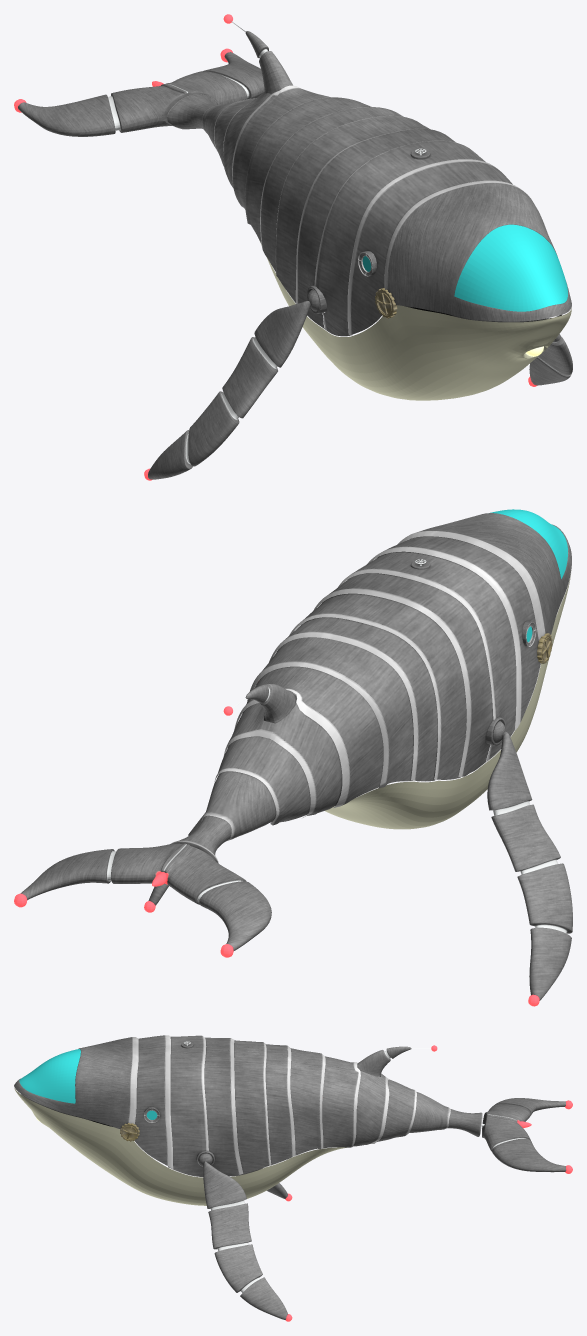
3 views of the same model, one above another, from view 1: azimuth 30°, elevation 25°; view 2: azimuth 150°, elevation 25°; view 3: azimuth 270°, elevation 25° (orthographic). The views are drawn at different scales.
Visible parts, largest first — view 1: Belly, Head, Flipper, Tail, Back_2, Glass_Dome, Back_1, Back_4, Back_3, Back_5, Back_6, Back_7 (+4 smaller); view 2: Flipper, Tail, Back_4, Back_6, Back_3, Back_7, Back_2, Belly, Head, Back_5, Back_1, Back_8 (+5 smaller); view 3: Belly, Flipper, Head, Back_2, Back_4, Back_3, Back_1, Tail, Back_6, Back_7, Back_5, Glass_Dome (+5 smaller).
Part boxes in pixels (<box>): Belly: <box>260,242,571,400</box>; Head: <box>384,180,571,321</box>; Flipper: <box>148,289,572,479</box>; Tail: <box>18,52,264,136</box>; Back_2: <box>314,140,485,336</box>; Glass_Dome: <box>454,224,567,311</box>; Back_1: <box>347,159,512,335</box>; Back_4: <box>275,115,429,302</box>; Back_3: <box>295,128,455,328</box>; Back_5: <box>260,107,403,271</box>; Back_6: <box>245,97,371,243</box>; Back_7: <box>232,85,330,209</box>; Flipper: <box>148,720,572,1000</box>; Tail: <box>20,843,271,950</box>; Back_4: <box>289,593,466,779</box>; Back_6: <box>247,637,413,788</box>; Back_3: <box>313,573,493,777</box>; Back_7: <box>234,666,383,807</box>; Back_2: <box>338,551,516,761</box>; Belly: <box>325,574,570,829</box>; Head: <box>397,513,571,640</box>; Back_5: <box>269,617,437,781</box>; Back_1: <box>367,536,540,730</box>; Back_8: <box>223,698,342,817</box>; Belly: <box>14,1088,346,1205</box>; Flipper: <box>198,1153,287,1319</box>; Head: <box>14,1037,138,1128</box>; Back_2: <box>168,1035,208,1176</box>; Back_4: <box>234,1040,271,1174</box>; Back_3: <box>204,1037,243,1176</box>; Back_1: <box>134,1035,173,1168</box>; Tail: <box>482,1098,566,1172</box>; Back_6: <box>290,1048,325,1155</box>; Back_7: <box>322,1056,360,1148</box>; Back_5: <box>265,1044,295,1165</box>; Glass_Dome: <box>19,1049,80,1103</box>.
Size of the model in its own units: 0.0385 by 0.0314 by 0.0729.
1 material, 1 textured.
